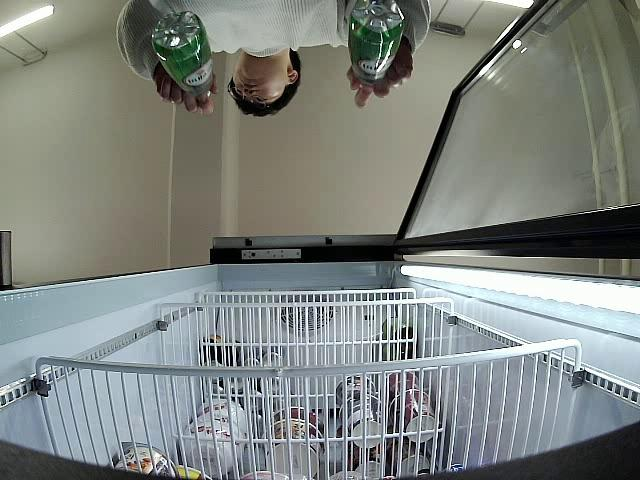00_hand: (346, 44, 414, 106), (154, 63, 219, 116)
18_trevi: (154, 11, 215, 96), (350, 0, 404, 89)
